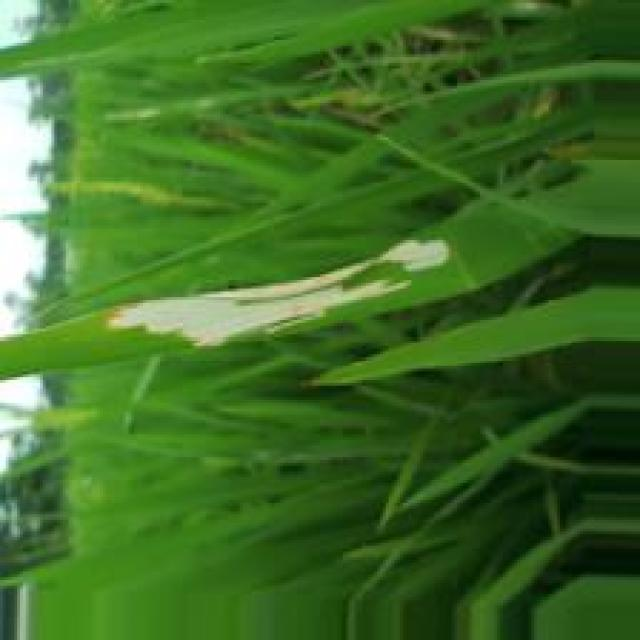Rice_Hispa: (91, 239, 466, 348)
